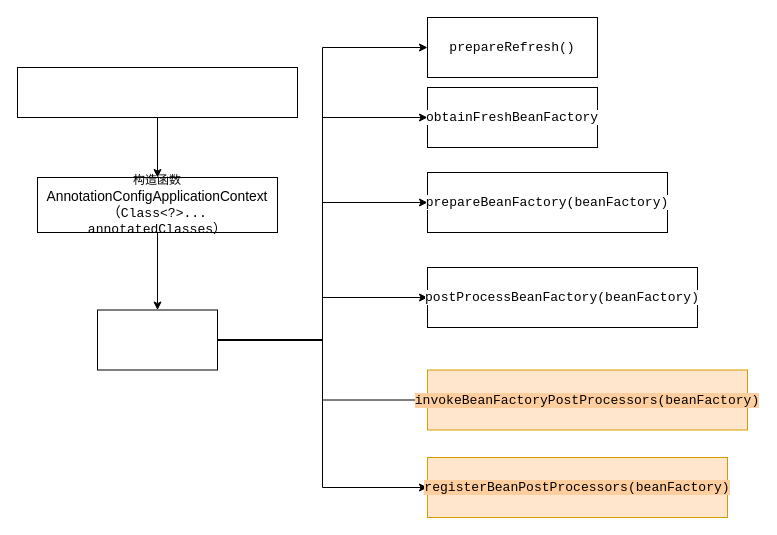
Image size: 777x535. Some labels were removed from this diagram. Each missing label, with the box of its shape:
AnnotationConfigApplicationContext: (16, 66, 298, 118)
IOC容器刷新接口refresh(): (96, 309, 218, 370)
